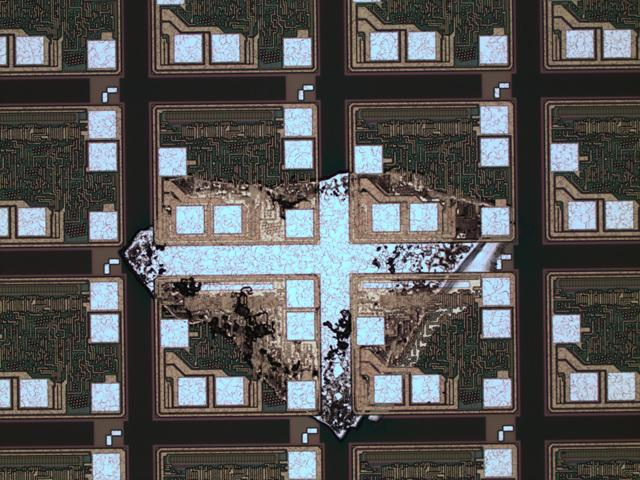BLOCK ETCH: (115, 164, 526, 445)
